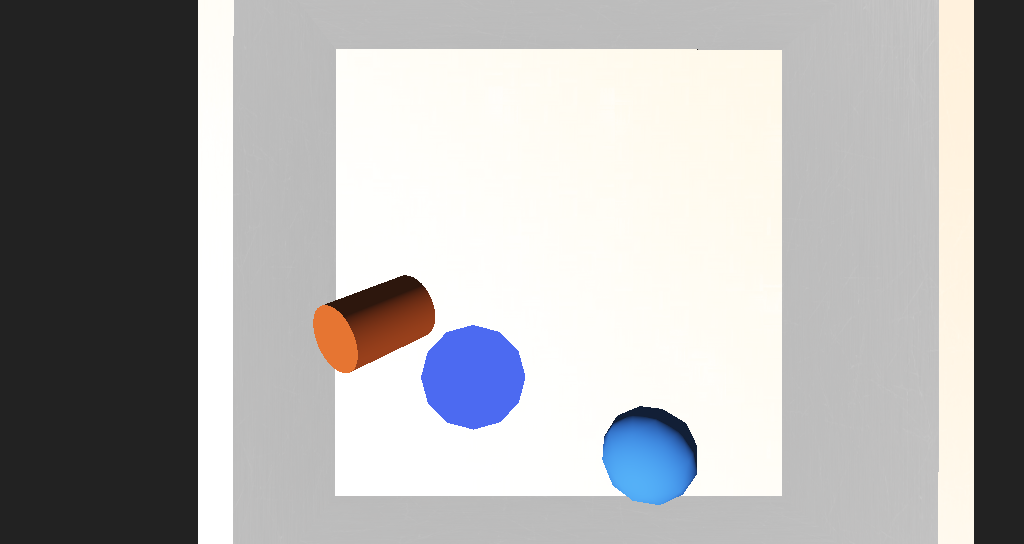cone: (340, 267, 428, 315)
cylinder: (421, 291, 482, 339)
sphere: (536, 329, 596, 377)
